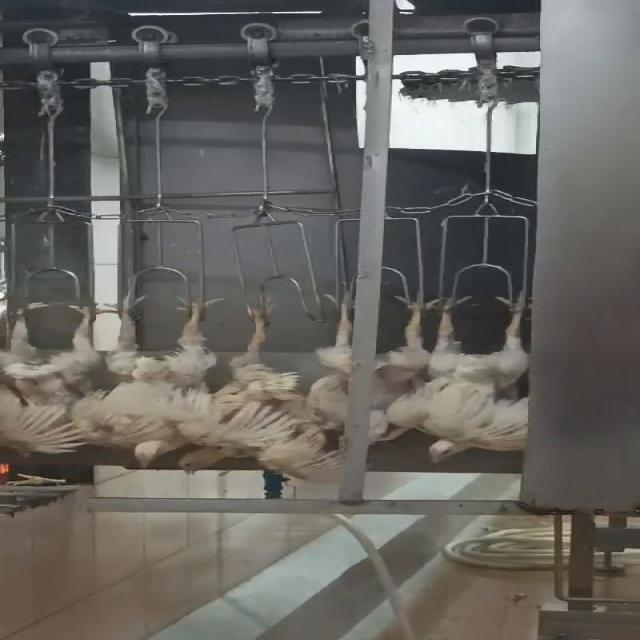chicken: (100, 291, 226, 476), (414, 286, 531, 466), (300, 288, 426, 441), (0, 296, 107, 459), (217, 307, 301, 460)
